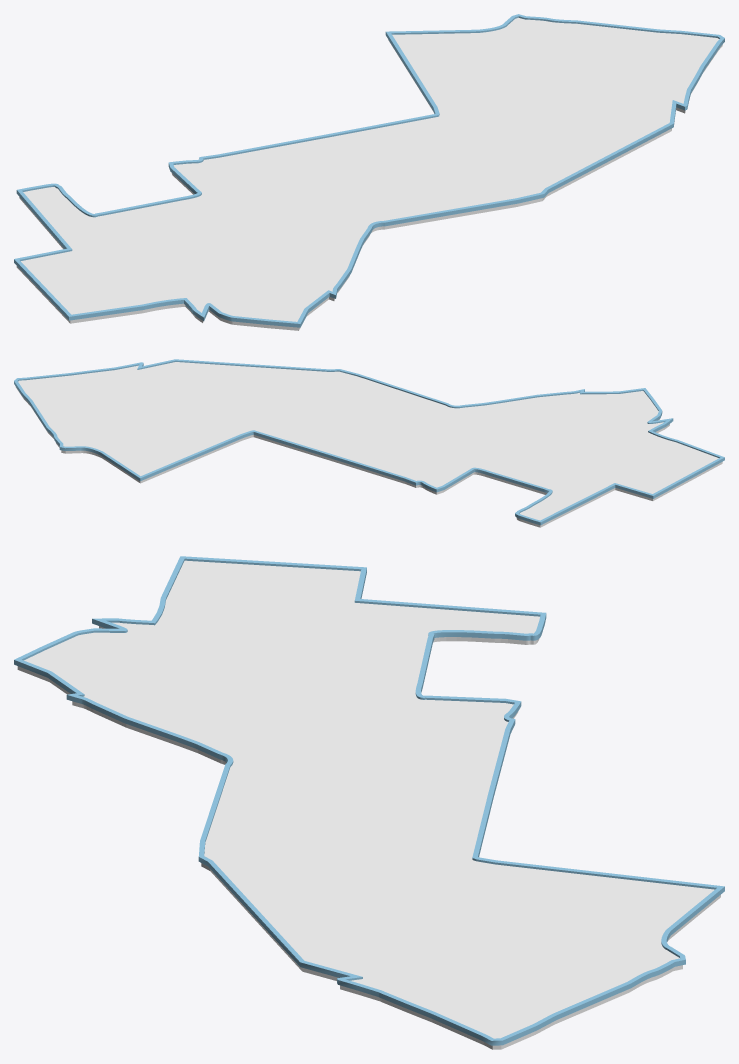
The picture shows the model from 3 angles, top to bottom: view 1: azimuth 30°, elevation 25°; view 2: azimuth 150°, elevation 25°; view 3: azimuth 270°, elevation 25°; orthographic projection. The views are drawn at different scales.
Visible parts, largest first — view 1: celling, scan, floor; view 2: celling, scan, floor; view 3: celling, scan, floor.
Part boxes in pixels (x1=…): celling: x1=21, y1=17, x2=719, y2=321; scan: x1=14, y1=14, x2=724, y2=327; floor: x1=16, y1=40, x2=722, y2=330; celling: x1=18, y1=362, x2=718, y2=520; scan: x1=14, y1=359, x2=724, y2=525; floor: x1=16, y1=387, x2=722, y2=527; celling: x1=24, y1=560, x2=714, y2=1038; scan: x1=14, y1=556, x2=724, y2=1045; floor: x1=17, y1=626, x2=720, y2=1049.
Bounding box in the file's own units: 13844 × 135 × 8582.
